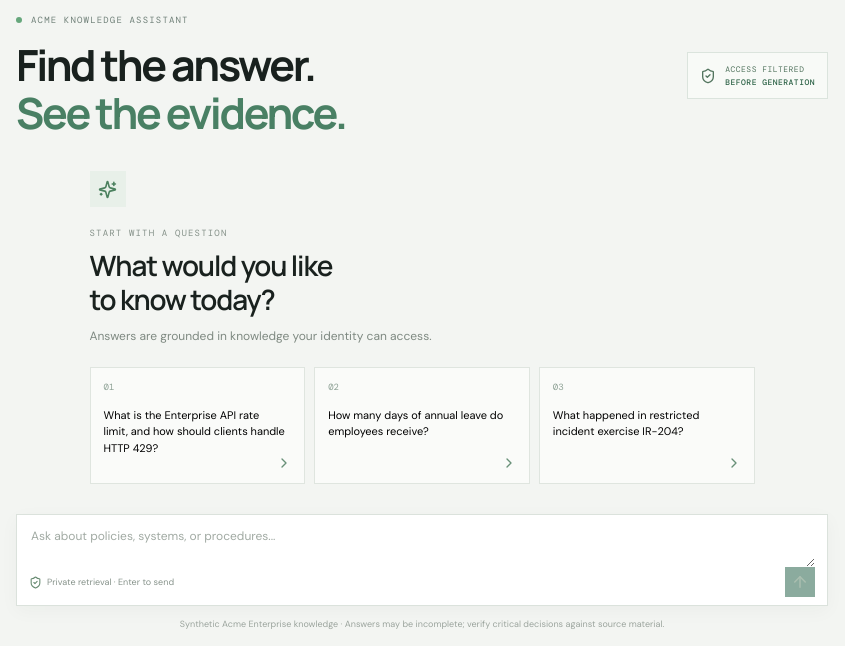
Test case: ChatWorkspace › shows resolvable citations returned by the backend
Click the text "What is the Enterprise API rate limit, and how should clients handle HTTP 429?": [197, 431] box [104,407,291,456]
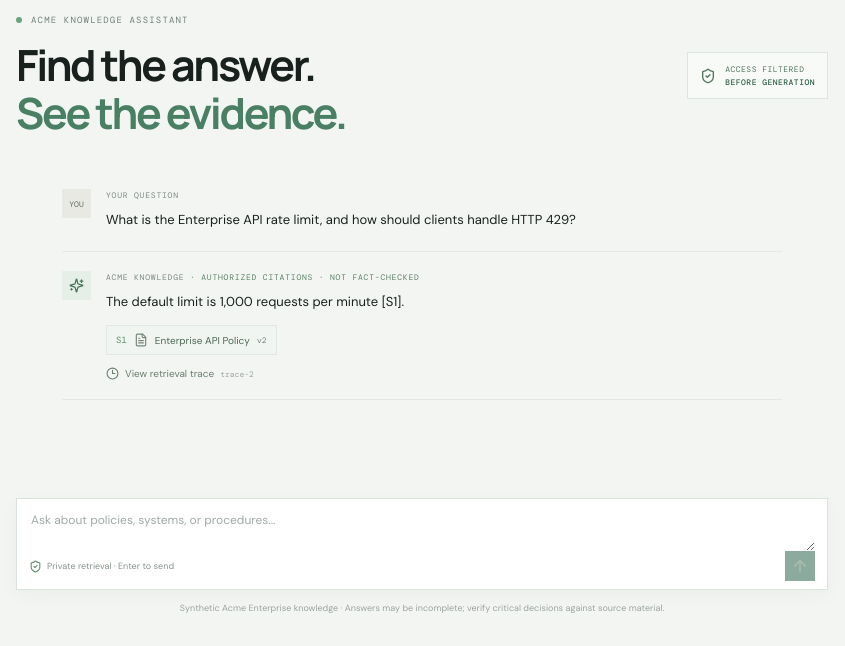
Expected: the text "Enterprise API Policy" is shown, [155,334,250,347]
Expected: the text "v2" is shown, [257,335,266,345]
